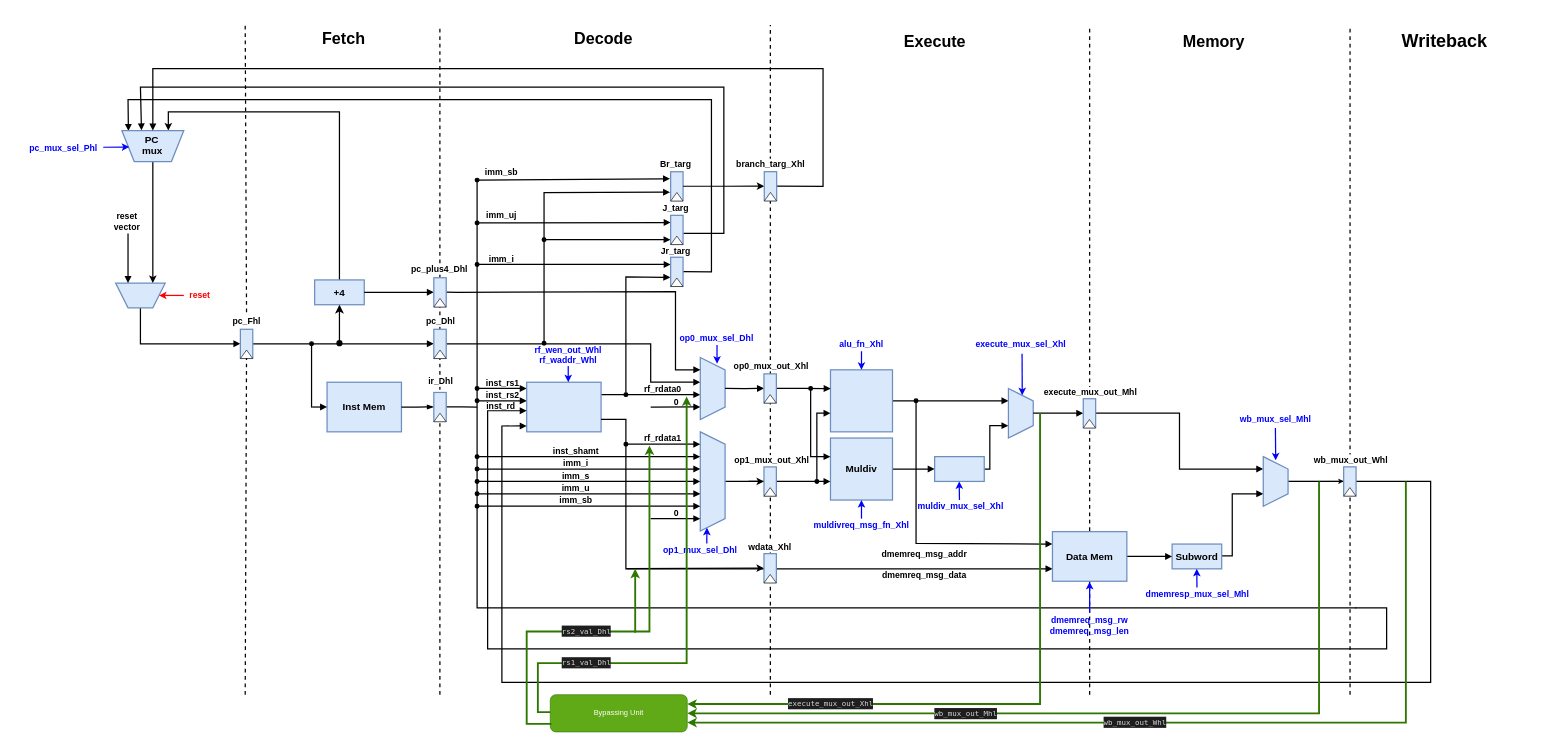
The diagram is 1546 pixels wide and 748 high, and some of its shapes have lost their labels. Here are the shapes that lost their labels. From the top down, the box of each, then its label:
(526, 381, 601, 432): Reg File
(830, 369, 893, 432): ALU
(934, 456, 985, 482): Md_mux
